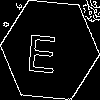E: (25, 25, 59, 74)
